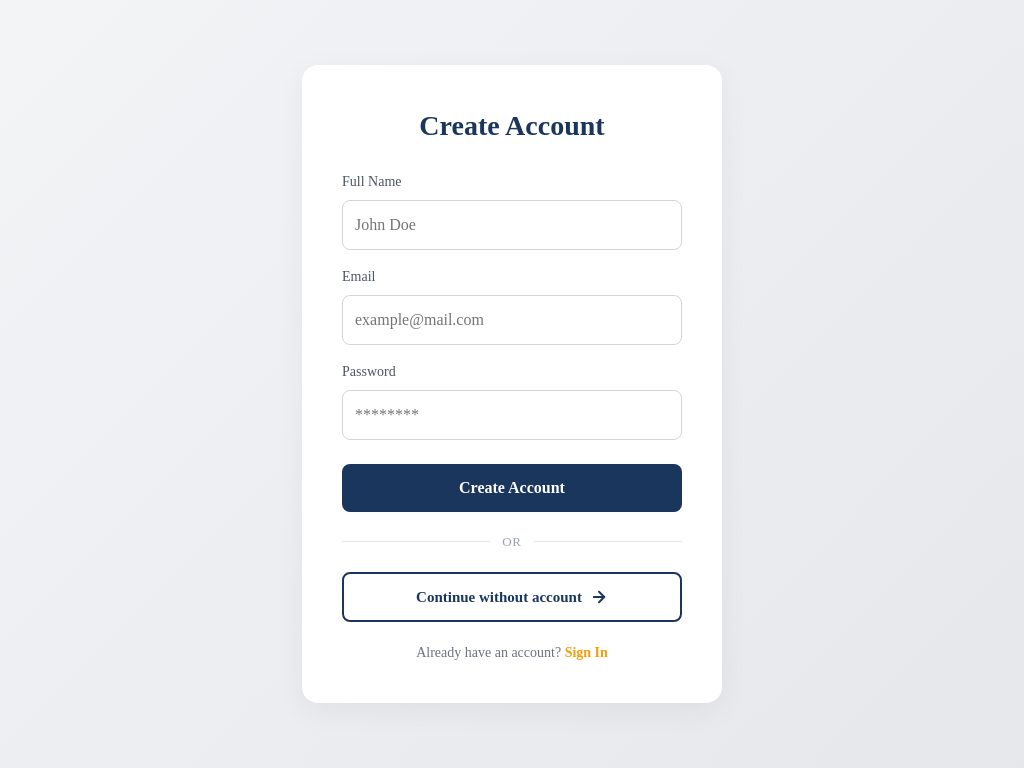
Register Page › shows error on failed registration
Step 1. Type "User" into the field with placeholder "John Doe" → point(512, 225), box [342,200,682,250]
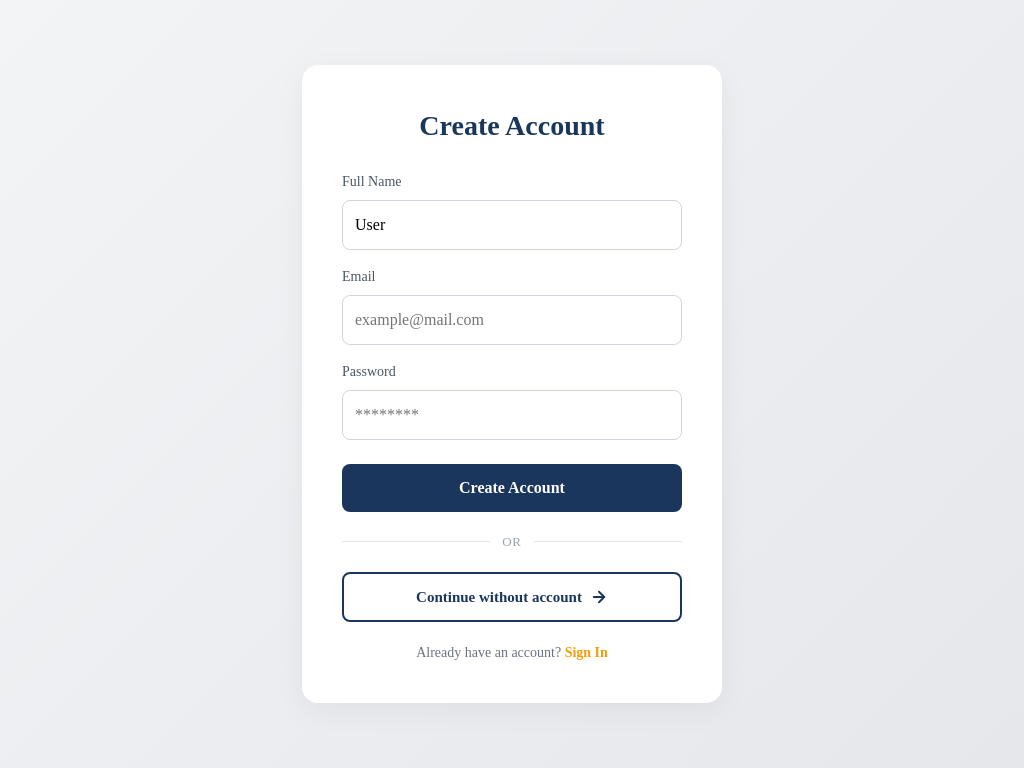
Step 2. Type "existing@test.com" into the field with placeholder "example@mail.com" → point(512, 320), box [342,295,682,345]
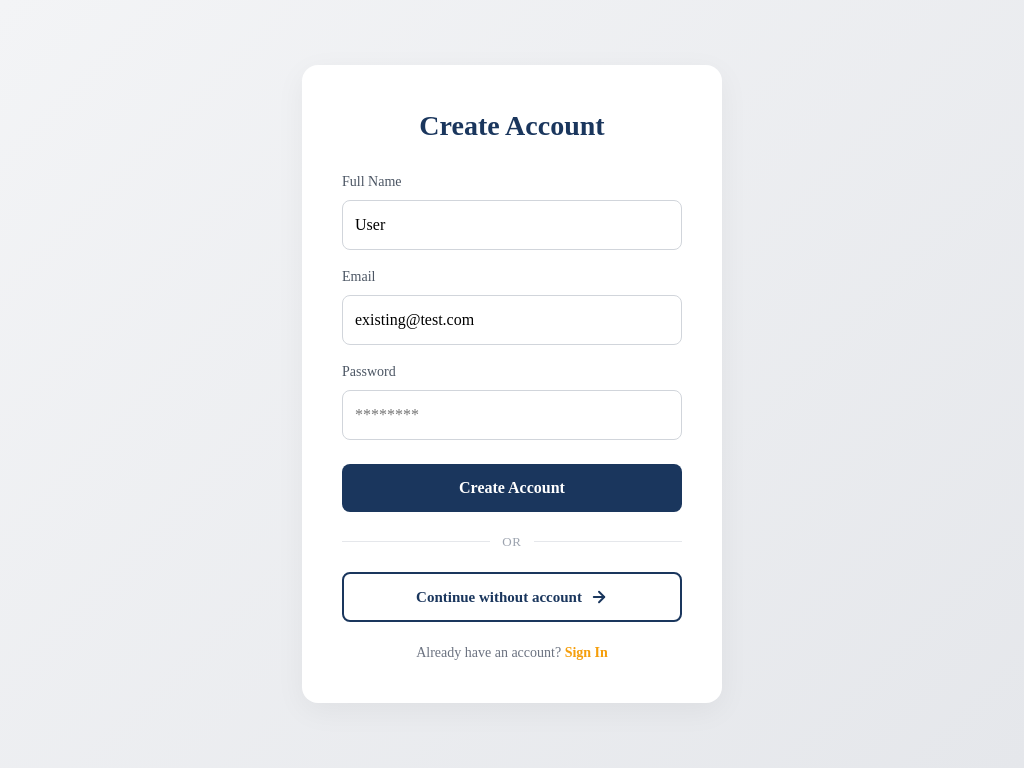
Step 3. Type "pass123" into the password field with placeholder "********" → point(512, 415), box [342,390,682,440]
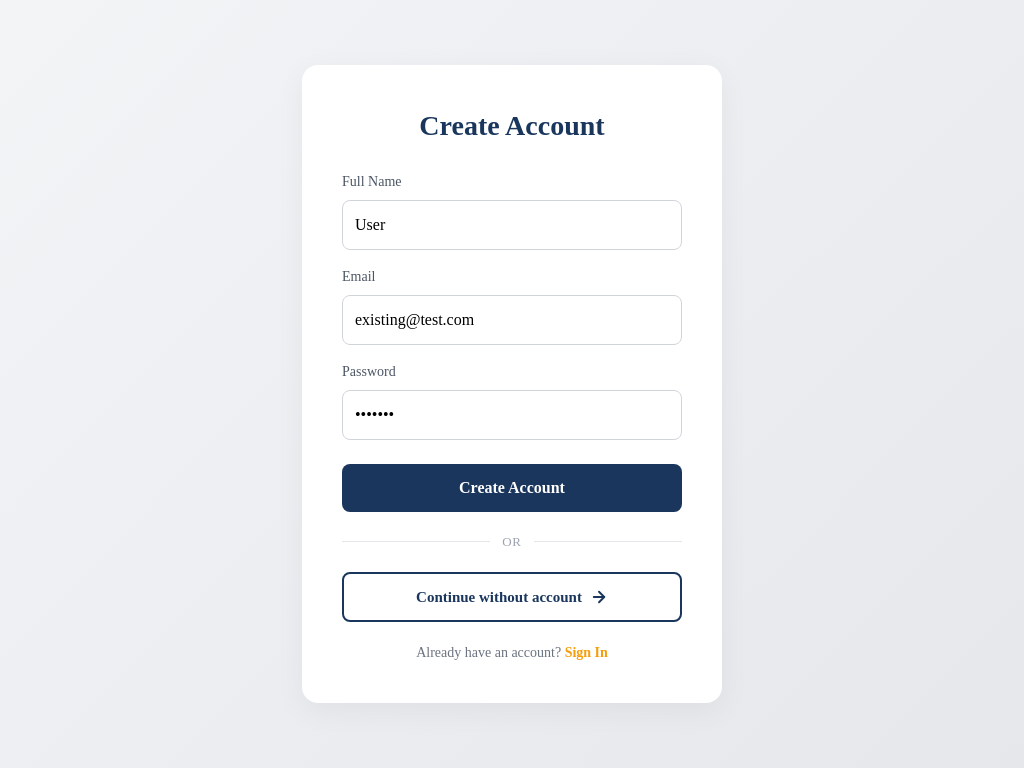
Step 4. Click the button "Create Account" → point(512, 488), box [342,464,682,512]
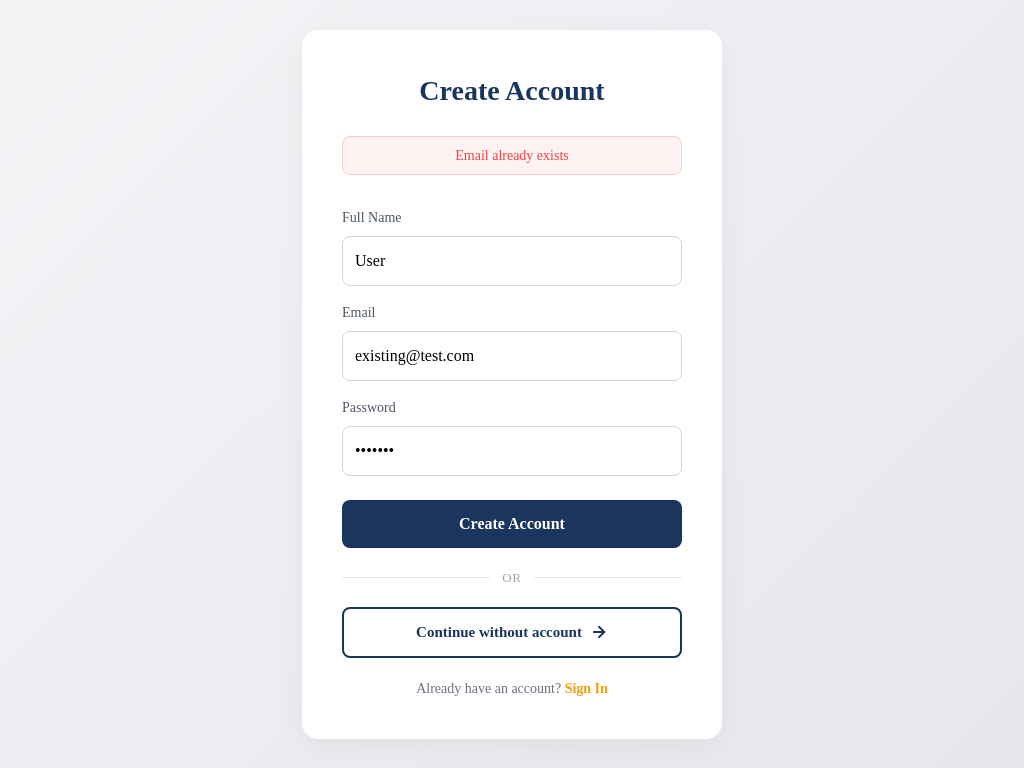
Expected: the text "Email already exists" is shown, [342,136,682,174]
